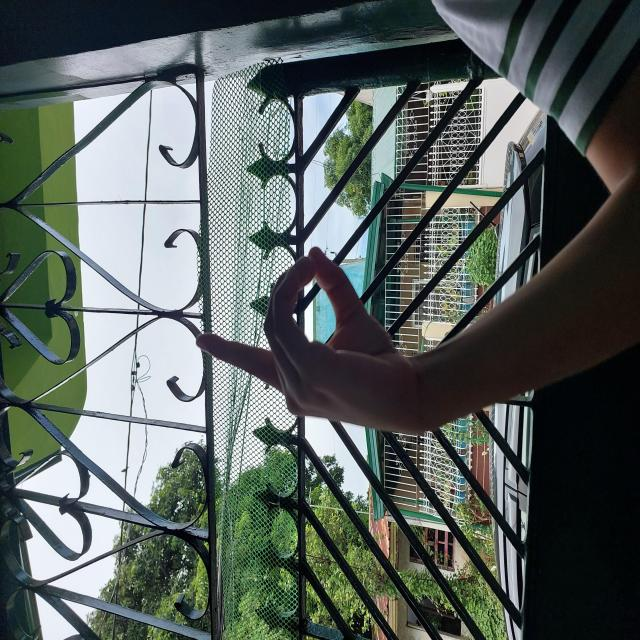D: (202, 192, 397, 427)
